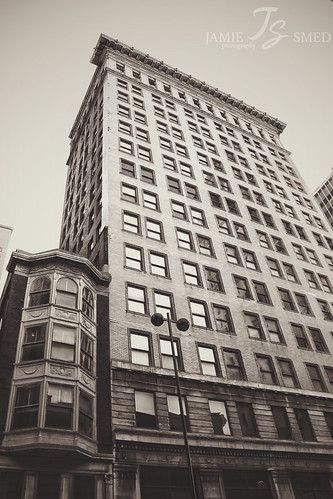high: (57, 27, 332, 499)
